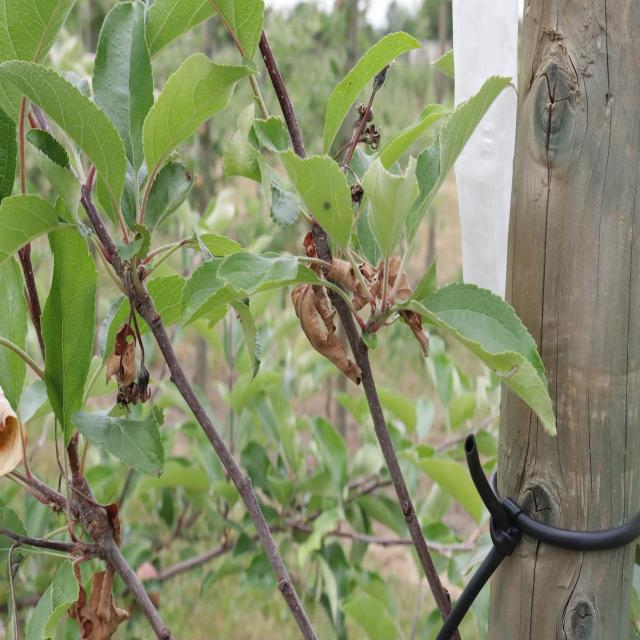-FireBlight-: (67, 469, 122, 640), (296, 239, 351, 375), (348, 238, 412, 342), (98, 309, 158, 396), (0, 400, 39, 490)
